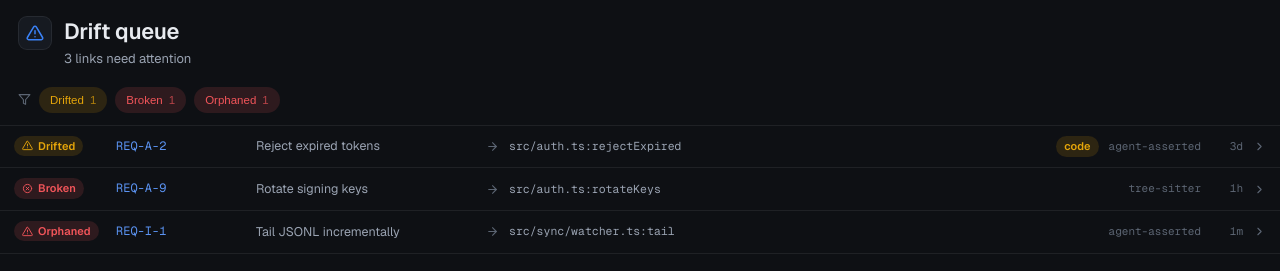
DriftPage (REQ-DESKTOP-022) › A3: state filter chips narrow the list with per-state counts
expect the text "REQ-A-2" is shown: met, box [116,138,166,154]
What coordinates should you click on to do the following:
click the button "broken 1"
I would click on:
 (151, 100)
Its box is [115,87,186,113].
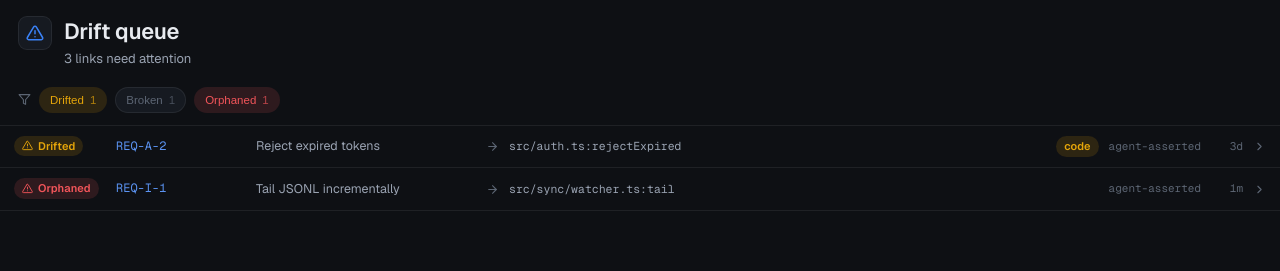
expect the text "REQ-A-2" is shown: met, box [116,138,166,154]
expect the button "REQ-A-9" is gone: met
What coordinates should you click on to do the following:
click the button "broken 1"
I would click on:
 (151, 100)
Its box is [115,87,186,113].
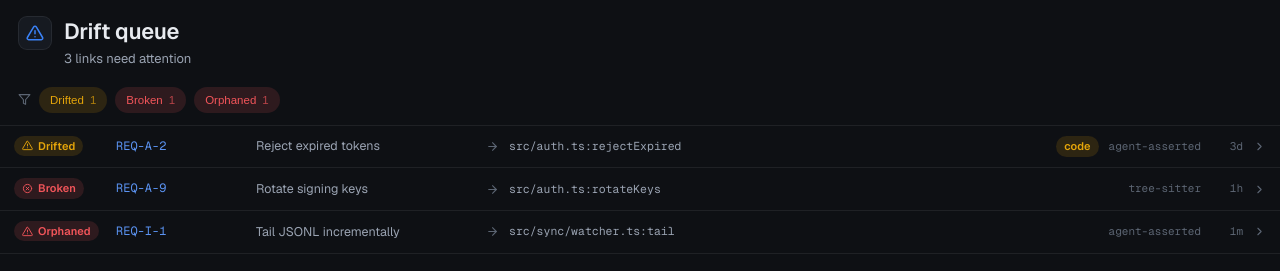
expect the text "REQ-A-9" is shown: met, box [116,180,166,196]
